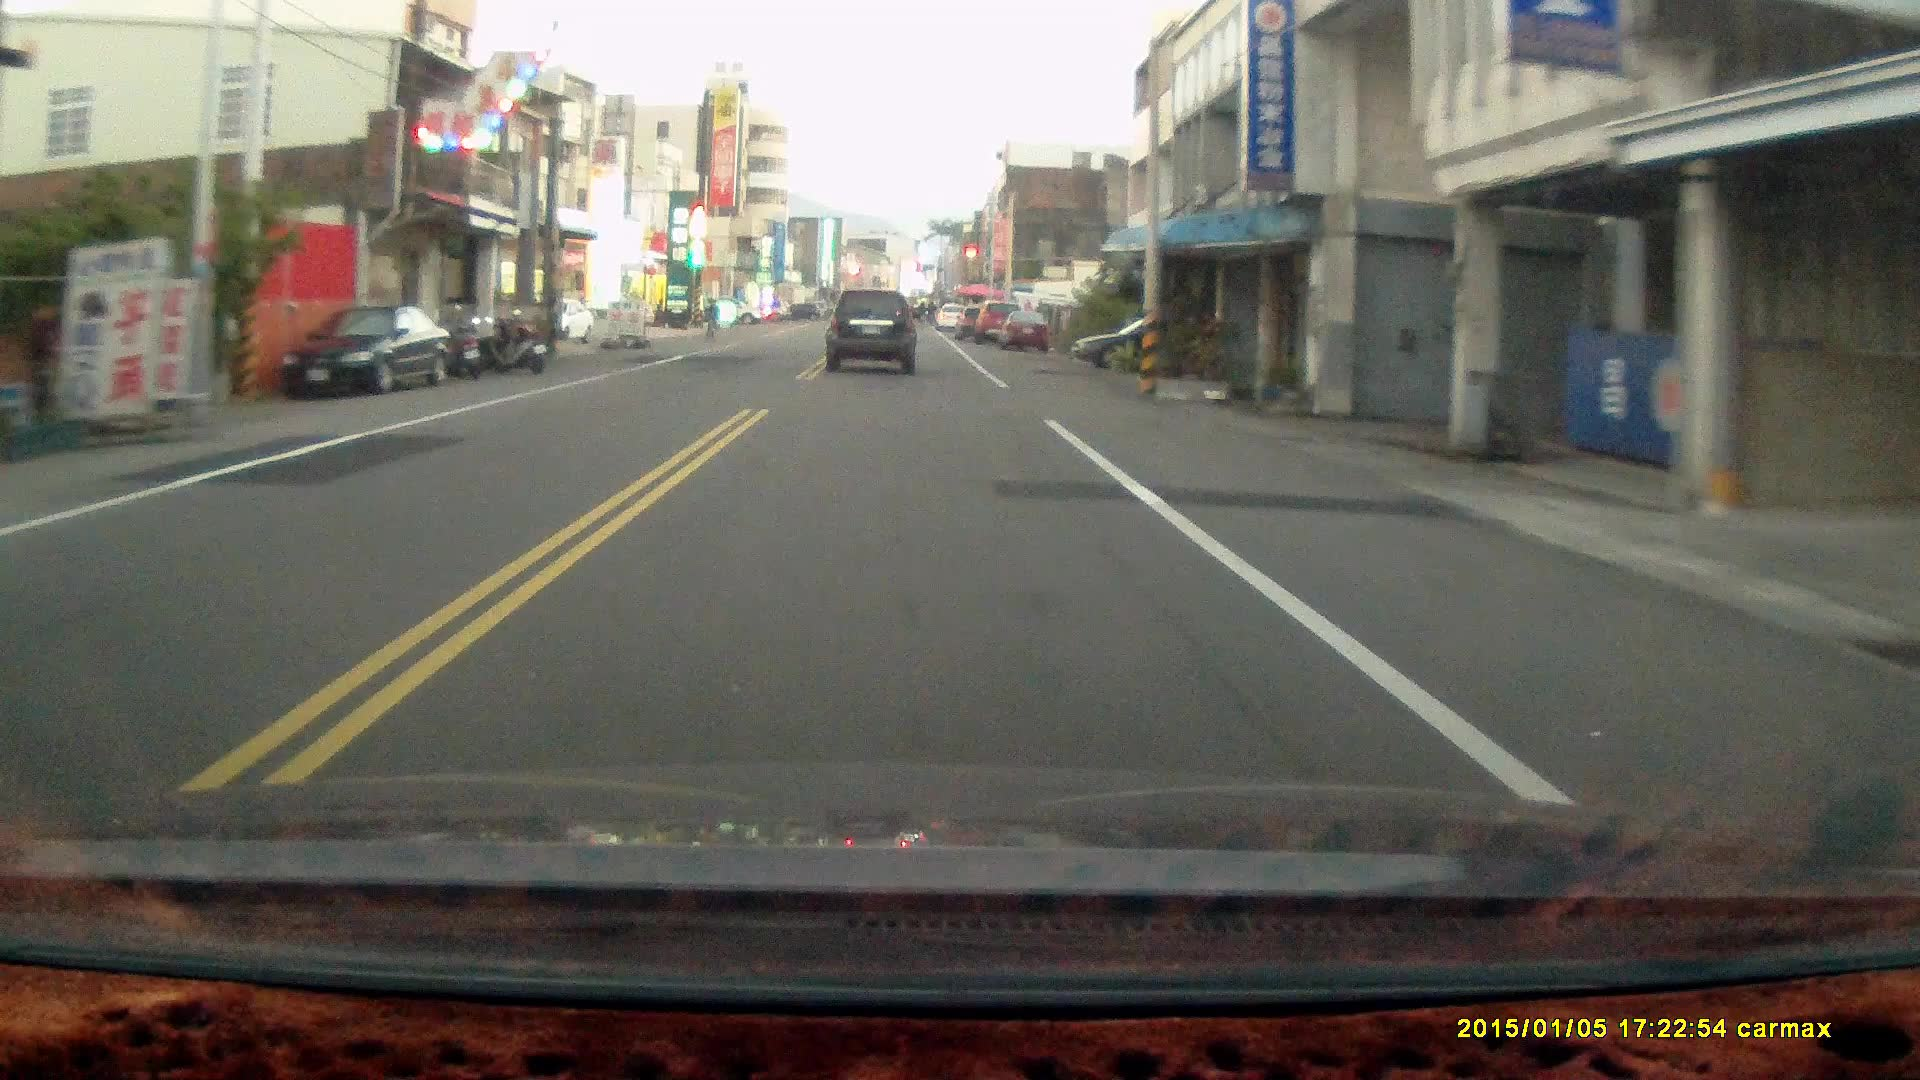pedestrian: (20, 299, 61, 425)
rider: (698, 294, 721, 339)
vehicle: (276, 305, 454, 395), (825, 287, 918, 379)
